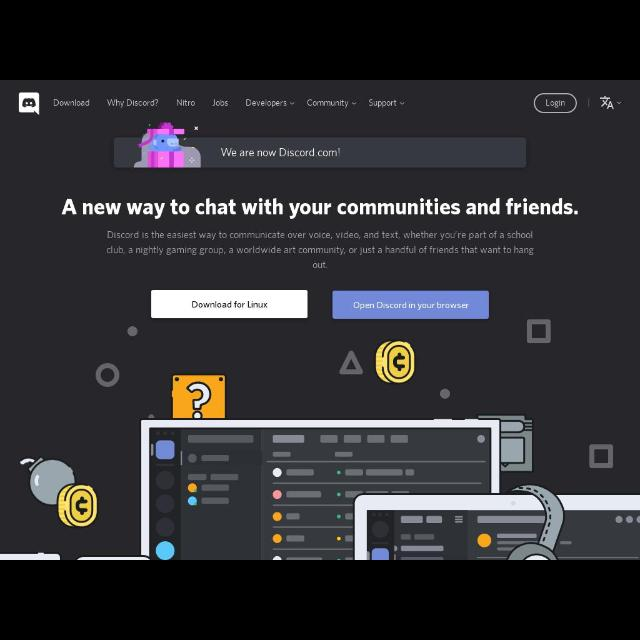backgroundimage: (1, 118, 638, 558)
icon: (290, 103, 294, 105), (352, 102, 356, 104), (400, 102, 404, 104), (617, 102, 621, 104)
image: (134, 123, 200, 167), (18, 94, 40, 115), (600, 96, 614, 110)
input: (115, 139, 525, 167)
spinner: (246, 100, 294, 108), (308, 100, 356, 108), (600, 96, 622, 110), (370, 100, 404, 108)
text: (106, 232, 534, 268), (61, 198, 577, 216), (221, 148, 339, 156), (354, 302, 468, 310), (193, 300, 267, 308), (108, 100, 158, 108), (307, 100, 348, 108), (246, 100, 286, 108), (54, 100, 90, 106), (369, 100, 396, 108), (546, 100, 564, 108), (177, 100, 195, 106), (212, 100, 228, 106)
textbutton: (151, 290, 307, 318), (334, 292, 488, 318), (534, 93, 578, 113)
toolbar: (1, 82, 640, 118)
